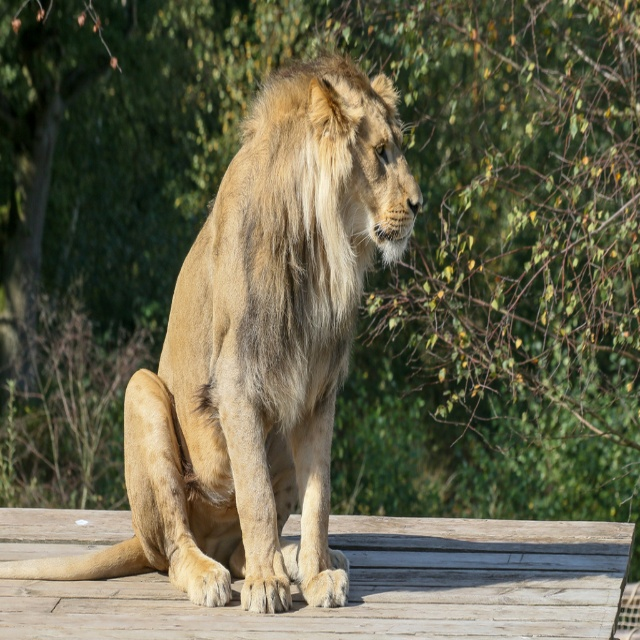Lion: (0, 39, 421, 614)
